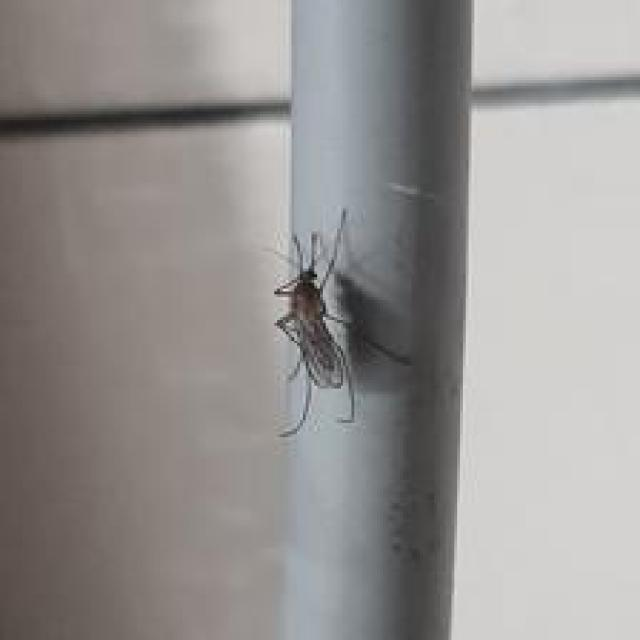Culex: (264, 207, 413, 439)
